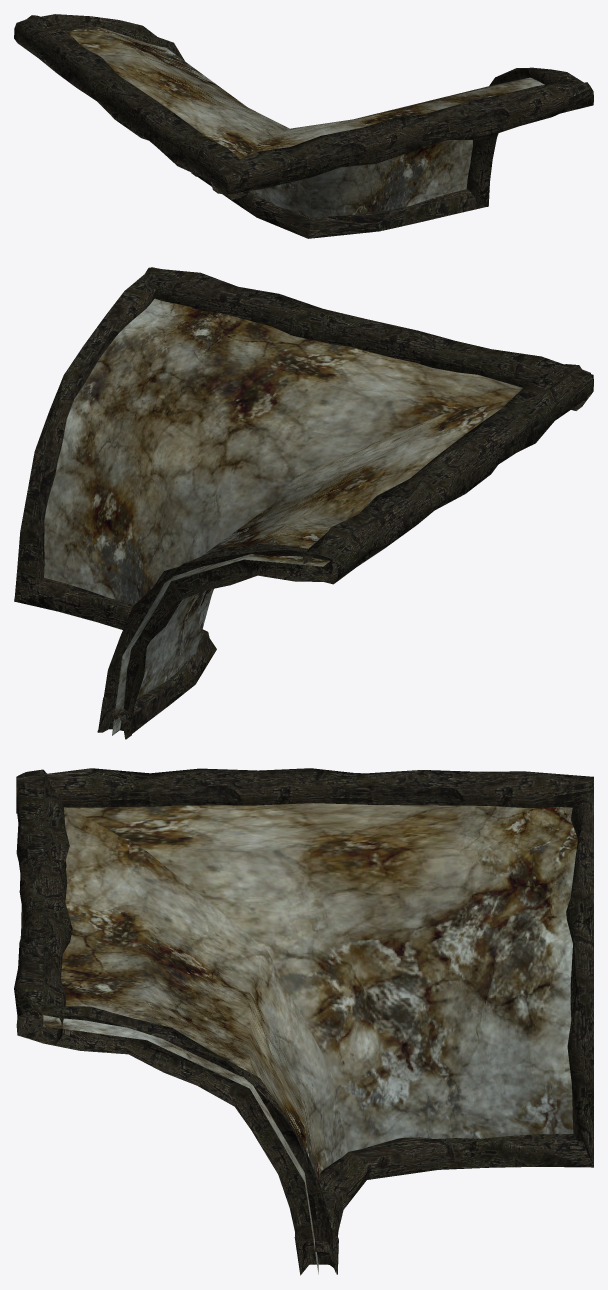
File: corner_convex_round_short.dae
3 views of the same model, one above another, from view 1: azimuth 30°, elevation 25°; view 2: azimuth 150°, elevation 25°; view 3: azimuth 270°, elevation 25° (orthographic). The views are drawn at different scales.
Parts seen in each view (by area): view 1: polySurface72, polySurface43; view 2: polySurface43, polySurface72; view 3: polySurface43, polySurface72.
Part boxes in pixels (x1,y1,x2,y2): polySurface72: [14, 14, 593, 238]; polySurface43: [67, 27, 544, 217]; polySurface43: [44, 298, 522, 735]; polySurface72: [14, 267, 593, 739]; polySurface43: [43, 803, 577, 1274]; polySurface72: [14, 768, 593, 1275].
Size of the model in its own units: 4.21 by 2.16 by 4.21.
